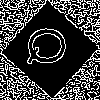Q: (25, 25, 75, 67)
